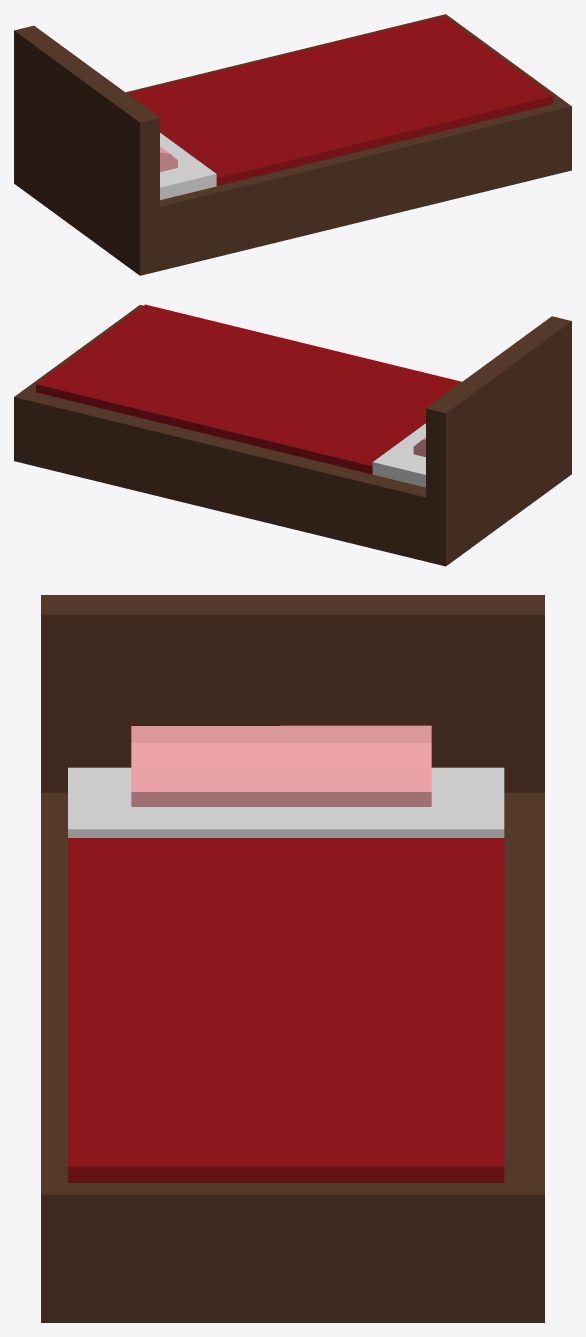
Rendered from Bed.fbx.
3 renders of one model, top to bottom at view 1: azimuth 30°, elevation 25°; view 2: azimuth 150°, elevation 25°; view 3: azimuth 270°, elevation 25°, orthographic. The views are drawn at different scales.
Parts seen in each view (by area): view 1: Bed; view 2: Bed; view 3: Bed.
Part boxes in pixels (x1,y1,x2,y2): Bed: [14, 14, 571, 275]; Bed: [14, 304, 571, 566]; Bed: [41, 595, 544, 1322].
Size of the model in its own units: 236 by 79.79 by 119.
